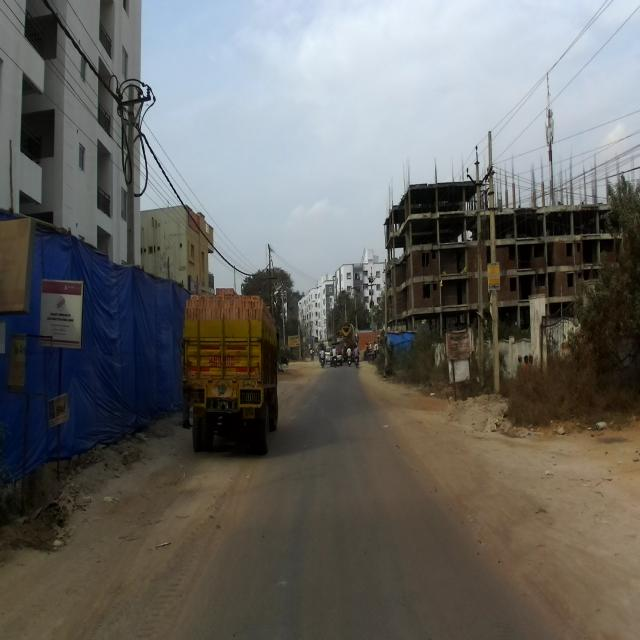sign board ahead at: (31, 277, 90, 510)
truck ahead at: (172, 273, 286, 469)
